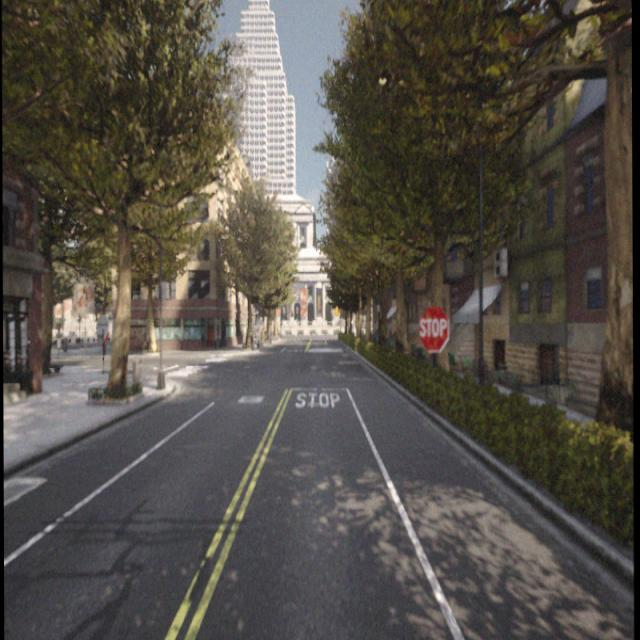stop sign: (416, 302, 451, 355), (418, 316, 448, 339)
